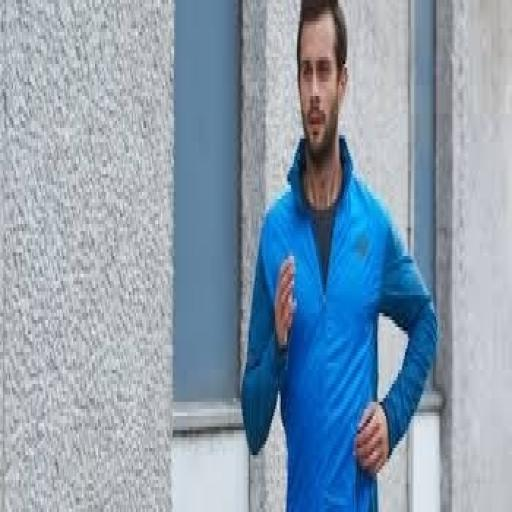running: (238, 0, 440, 508)
